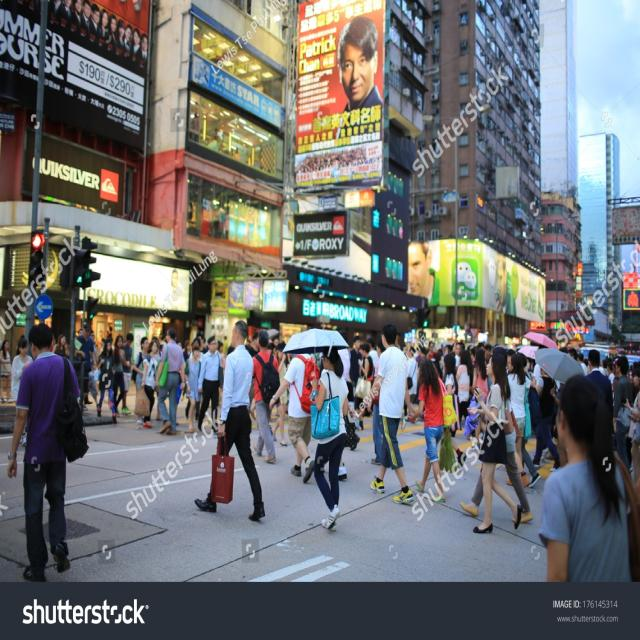body: (5, 322, 90, 588), (535, 372, 634, 582), (193, 318, 267, 523), (459, 345, 534, 524), (352, 321, 414, 506), (465, 352, 524, 535), (406, 357, 458, 504), (308, 346, 349, 531), (268, 352, 321, 485), (47, 0, 149, 69), (333, 14, 383, 139), (505, 352, 538, 488), (504, 353, 537, 488), (249, 329, 281, 465), (154, 327, 186, 436), (530, 367, 562, 472), (440, 353, 468, 471), (611, 354, 634, 478), (267, 336, 292, 448), (197, 334, 223, 436), (10, 336, 34, 446), (623, 364, 640, 500), (369, 338, 386, 466), (74, 323, 98, 412), (407, 241, 440, 305), (584, 348, 614, 418), (95, 337, 117, 425), (470, 347, 490, 441), (110, 334, 131, 418), (454, 349, 474, 435), (184, 342, 202, 434), (130, 335, 148, 425), (140, 338, 158, 428), (495, 253, 517, 316), (355, 342, 374, 410), (349, 335, 364, 413), (121, 332, 134, 416), (540, 408, 559, 464), (558, 347, 590, 376), (0, 338, 14, 404), (336, 330, 352, 383), (83, 371, 101, 412), (215, 341, 226, 408), (406, 345, 418, 405), (90, 326, 114, 354), (175, 382, 190, 424), (346, 416, 360, 451), (51, 334, 70, 358), (550, 376, 564, 408), (416, 341, 437, 362), (366, 338, 379, 367), (360, 404, 374, 430), (601, 358, 617, 380), (247, 332, 260, 357), (174, 338, 190, 358), (191, 333, 208, 351), (436, 346, 445, 378), (444, 342, 464, 356), (610, 380, 615, 431), (400, 399, 408, 429), (477, 342, 492, 357), (155, 390, 162, 421), (558, 442, 566, 468), (16, 334, 25, 356), (529, 339, 548, 349), (524, 357, 535, 372), (157, 332, 166, 350), (418, 353, 458, 357), (506, 349, 516, 362), (91, 353, 98, 371), (468, 345, 475, 362), (628, 360, 633, 383), (194, 401, 199, 420), (52, 331, 59, 344), (155, 349, 163, 360), (454, 356, 460, 368), (400, 342, 407, 352), (358, 344, 363, 357), (420, 406, 424, 420), (77, 328, 83, 336), (632, 362, 640, 368), (152, 336, 158, 340)
